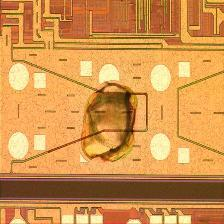COATING BAD: (68, 76, 151, 171)
